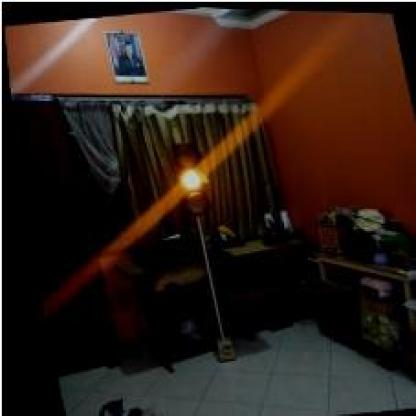yellow: (169, 138, 209, 214)
